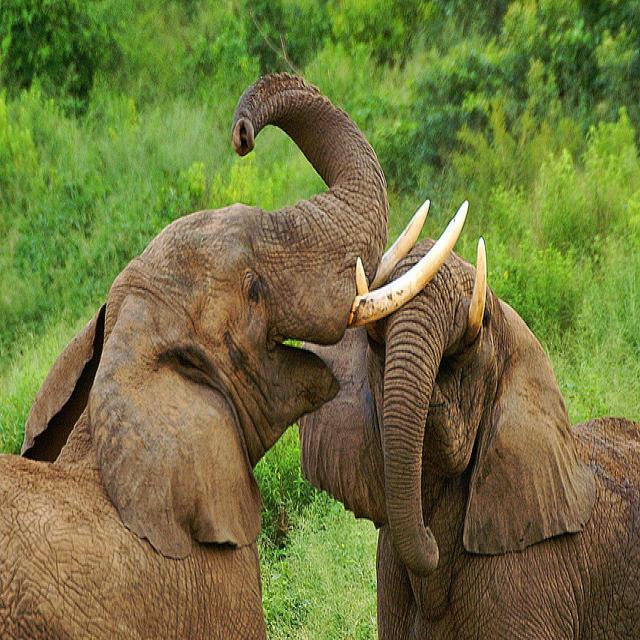Elephant: (0, 69, 467, 639)
